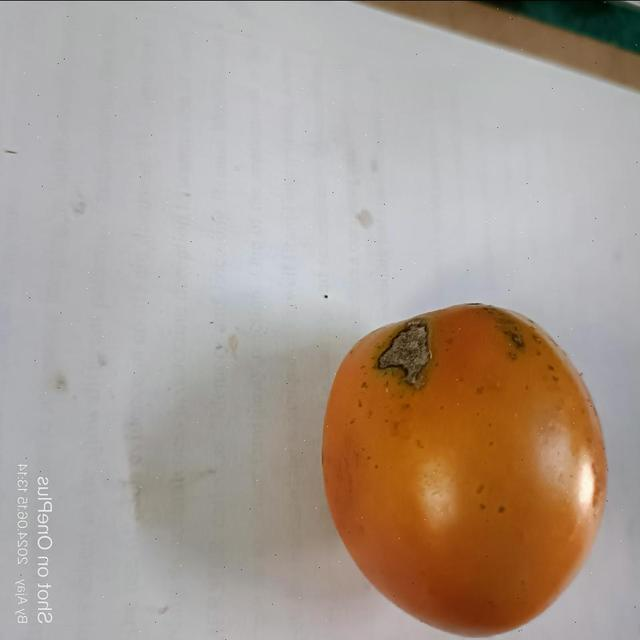Bacterial Spot Fruit: (28, 29, 345, 233)
